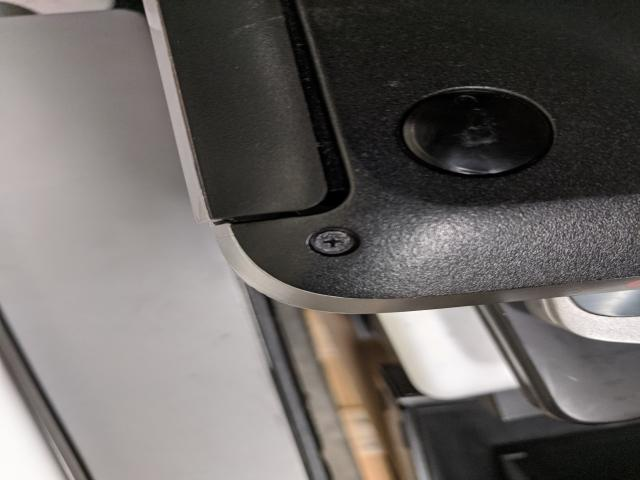CRS: (308, 228, 359, 254)
